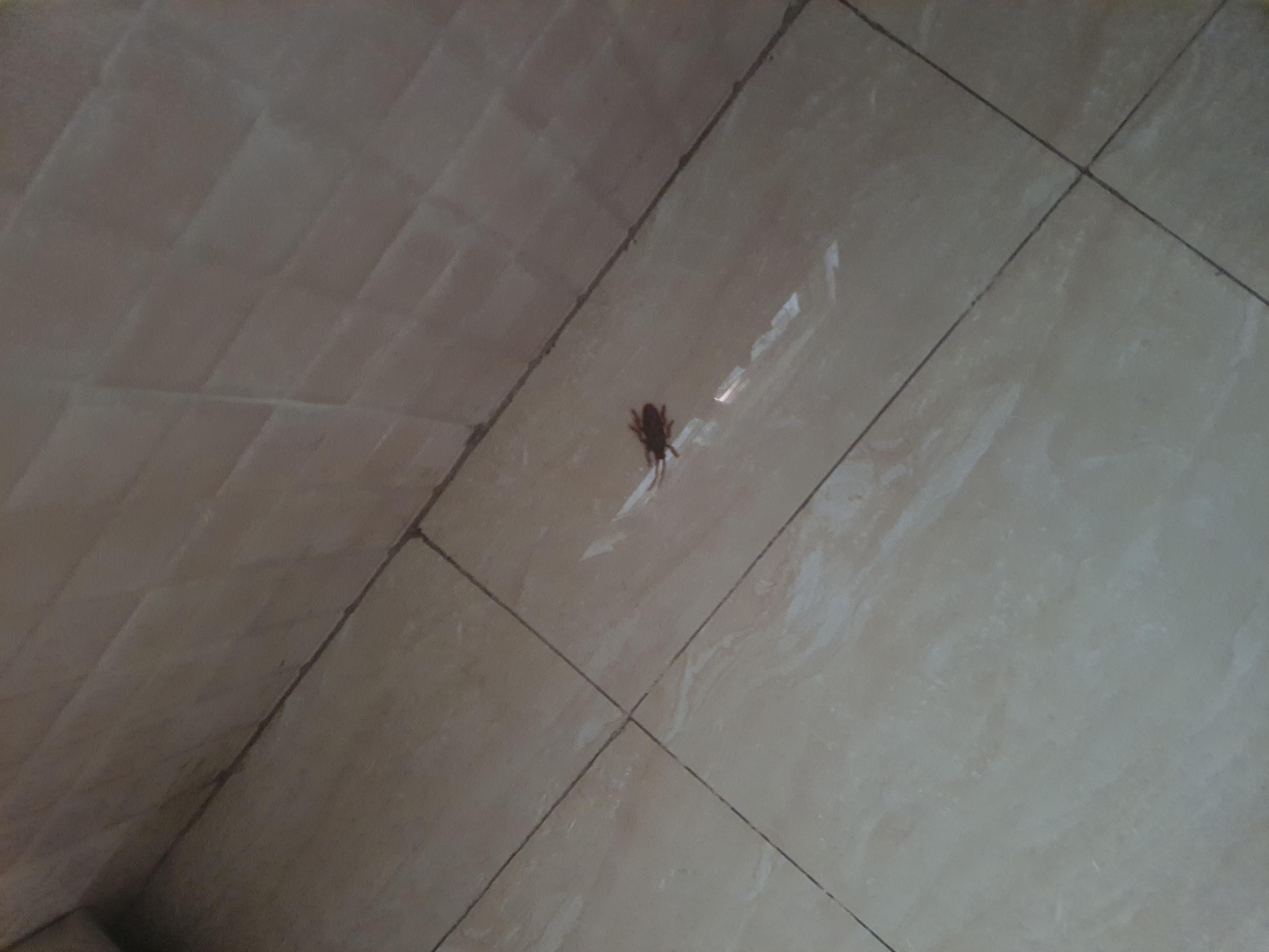cockroach: (627, 462, 749, 518)
